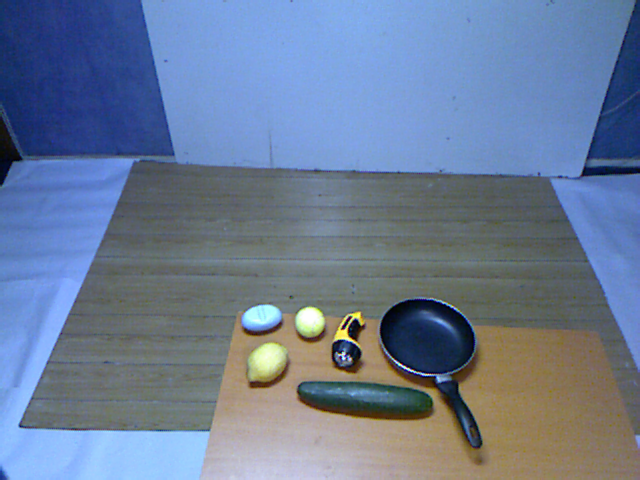jabon: (238, 297, 287, 342)
limon: (240, 336, 293, 392)
linterna: (322, 308, 370, 374)
pelota: (289, 301, 330, 345)
pepino: (292, 373, 442, 428)
sarten: (372, 289, 492, 457)
